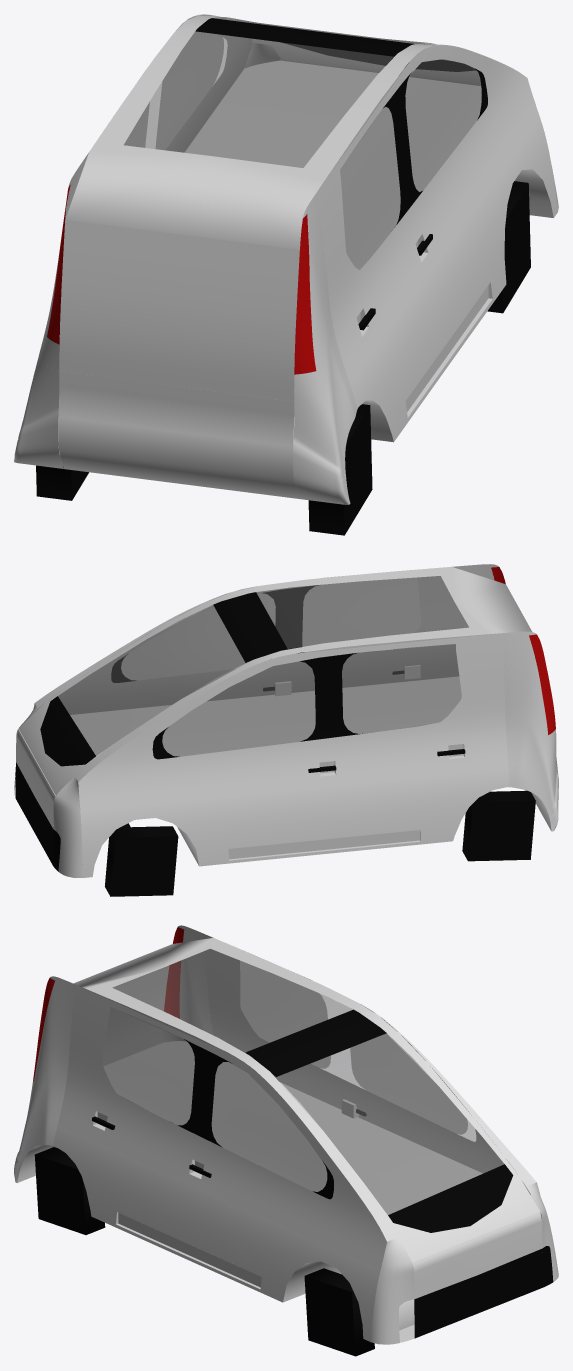
3 views of the same model, one above another, from view 1: azimuth 30°, elevation 25°; view 2: azimuth 150°, elevation 25°; view 3: azimuth 270°, elevation 25° (orthographic). The views are drawn at different scales.
Parts seen in each view (by area): view 1: white, glass, black, red; view 2: white, glass, black, red; view 3: white, glass, black, red.
Part boxes in pixels (x1=…): white: x1=14, y1=14, x2=558, y2=504; glass: x1=124, y1=17, x2=481, y2=269; black: x1=36, y1=18, x2=530, y2=535; red: x1=47, y1=184, x2=316, y2=374; white: x1=14, y1=564, x2=558, y2=877; glass: x1=58, y1=576, x2=468, y2=756; black: x1=14, y1=585, x2=535, y2=896; red: x1=491, y1=567, x2=555, y2=734; white: x1=14, y1=925, x2=558, y2=1344; glass: x1=102, y1=949, x2=504, y2=1214; black: x1=34, y1=1009, x2=553, y2=1356; red: x1=33, y1=927, x2=184, y2=1081.
Bounding box in the file's own units: 3.81 × 1.78 × 3.72.
